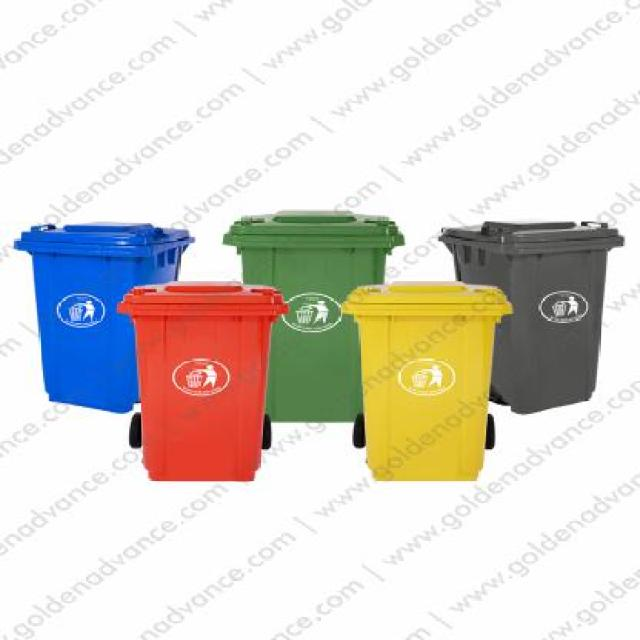garbage container: (431, 216, 635, 419), (220, 206, 408, 426), (336, 274, 518, 488), (116, 280, 295, 488), (8, 218, 195, 416)
